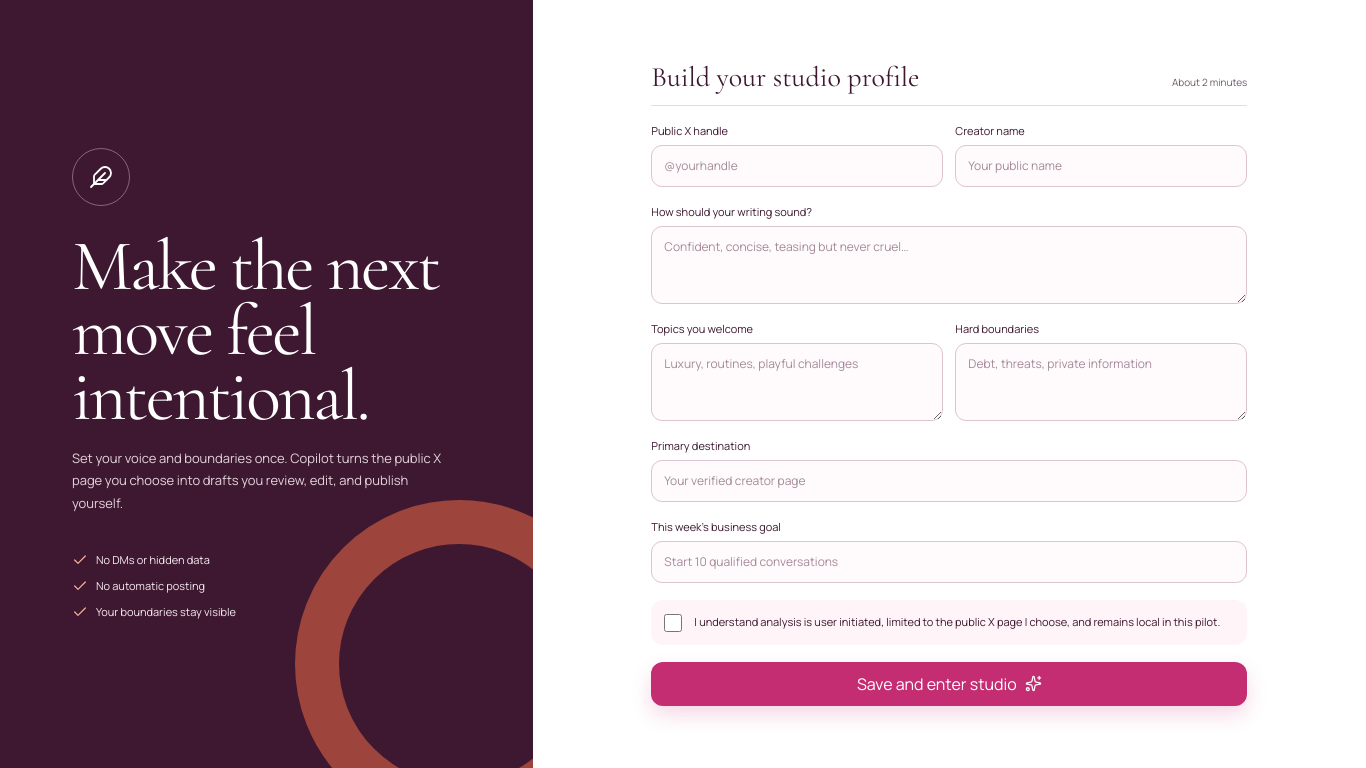
Test case: App › requires consent before saving onboarding
This screenshot has width=1366, height=768.
Click the button "Save and enter studio": (949, 684) [651,662,1247,706]
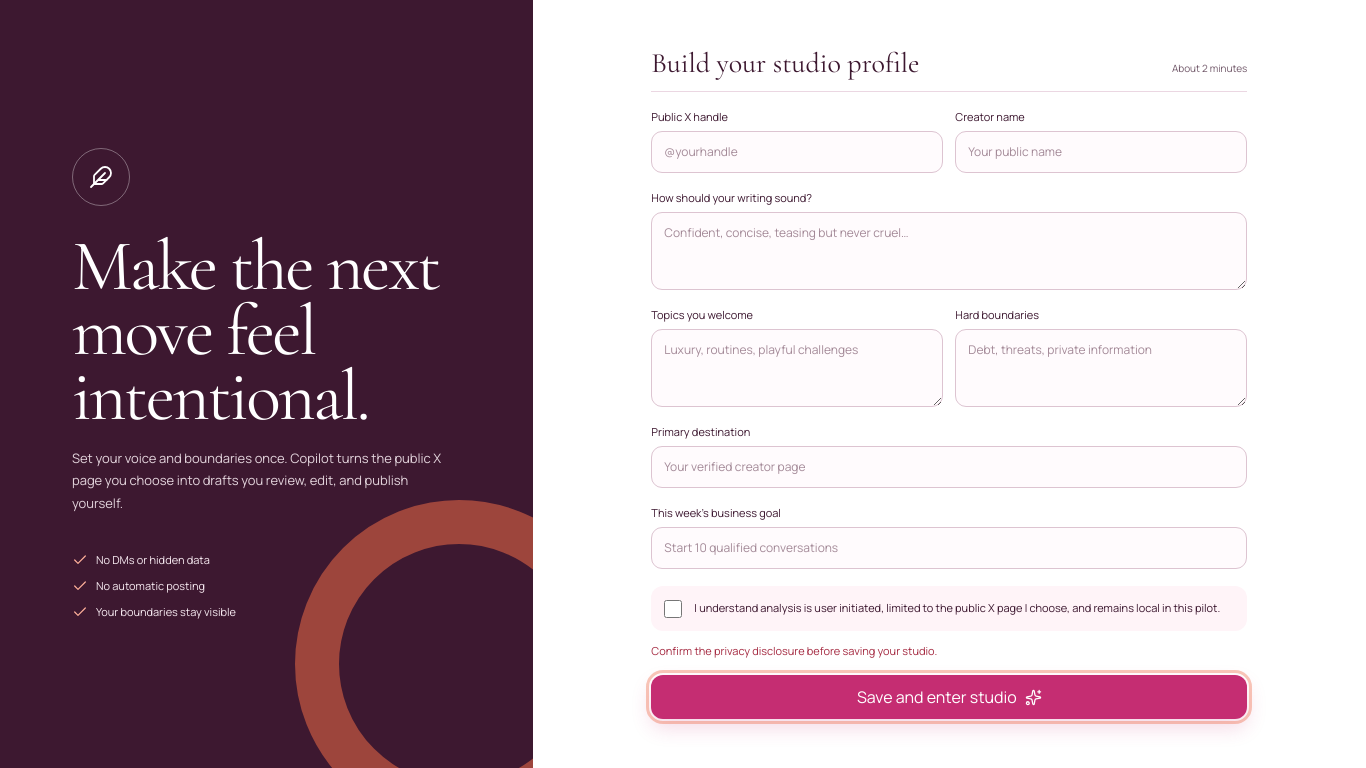
Now the text "Confirm the privacy disclosure before saving your studio." is shown, box [651,643,937,658]
